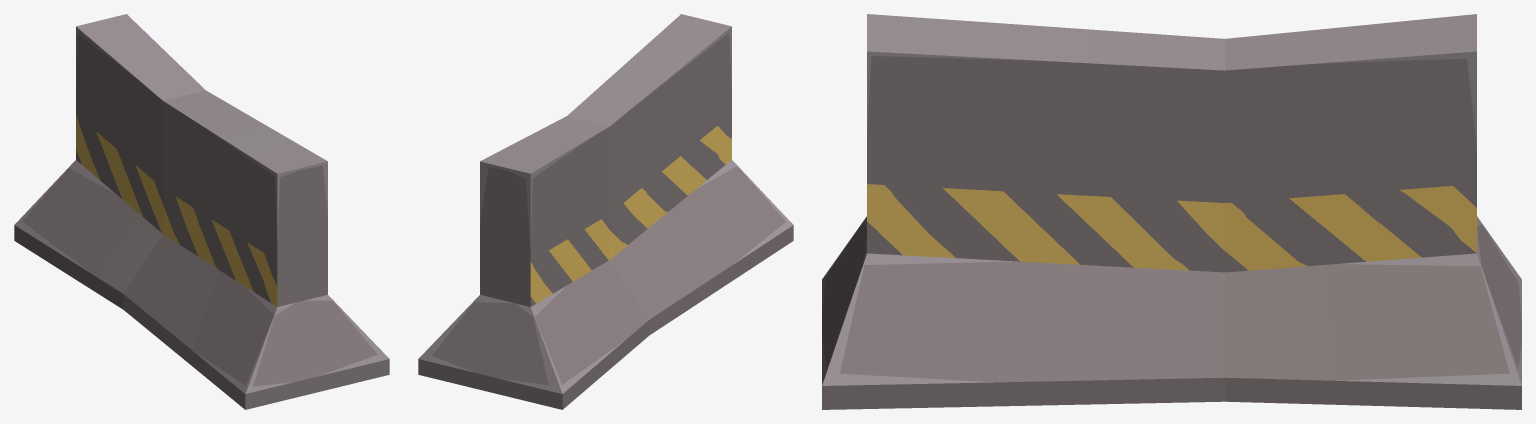
File: SM_BarrierStrong.fbx
3 views of the same model, side by side, from view 1: azimuth 30°, elevation 25°; view 2: azimuth 150°, elevation 25°; view 3: azimuth 270°, elevation 25° (orthographic). The views are drawn at different scales.
Parts seen in each view (by area): view 1: Cube.004; view 2: Cube.004; view 3: Cube.004.
Boxes of the visible parts, x1,y1,x2,y2 form: Cube.004: [14, 14, 389, 409]; Cube.004: [418, 14, 793, 409]; Cube.004: [822, 14, 1521, 409].
Size of the model in its own units: 2.07 by 2.94 by 5.75.
